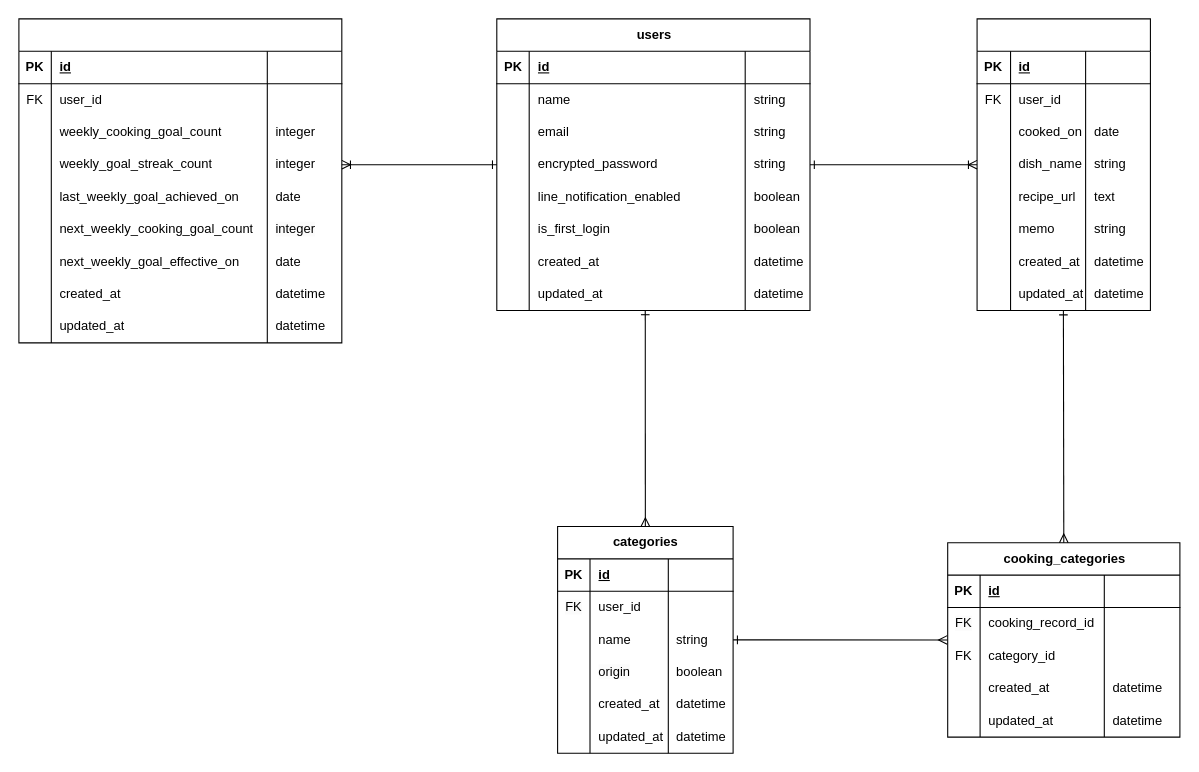
Some shapes in this 1199 by 772 pixel diagram are drawn without their labels. Here are the shapes that lost their labels. From the top down, the box of each, then its label:
(18, 18, 342, 343): user_cooking_goals
(976, 18, 1150, 310): cooking_records
